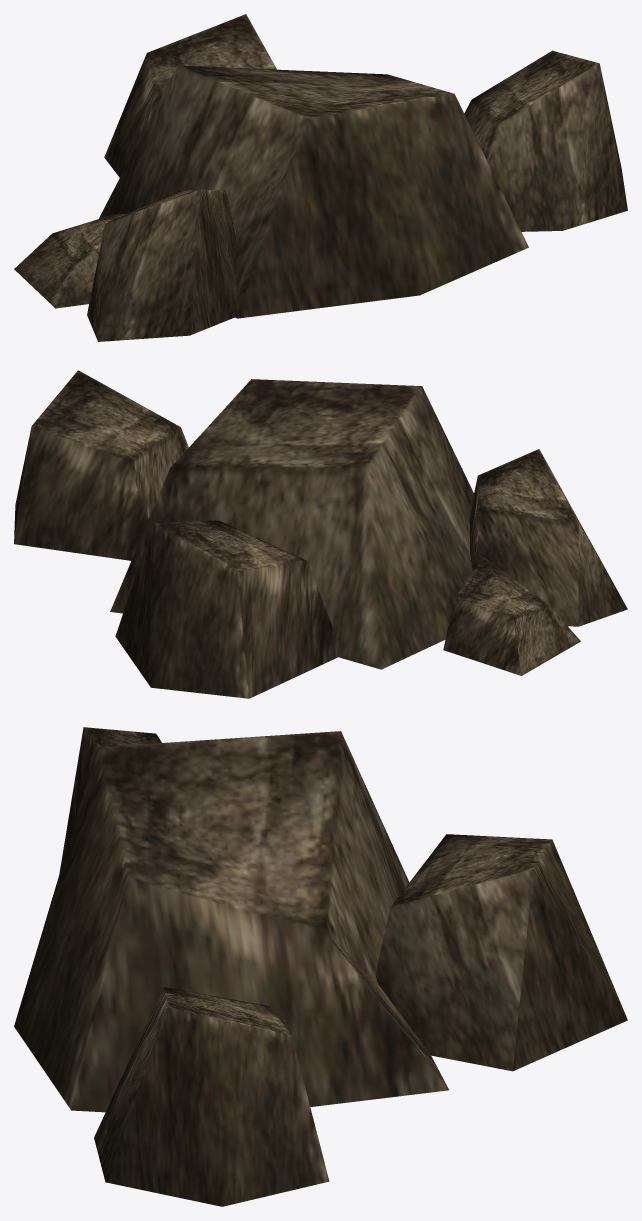
The picture shows the model from 3 angles, top to bottom: view 1: azimuth 30°, elevation 25°; view 2: azimuth 150°, elevation 25°; view 3: azimuth 270°, elevation 25°; orthographic projection. The views are drawn at different scales.
Visible parts, largest first — view 1: a66; view 2: a66; view 3: a66.
Boxes of the visible parts, bbox=[...] form: a66: bbox=[14, 14, 627, 341]; a66: bbox=[14, 370, 627, 698]; a66: bbox=[14, 727, 627, 1206].
Size of the model in its own units: 686 by 199 by 487.
Materials: 1 (1 with a texture image).
